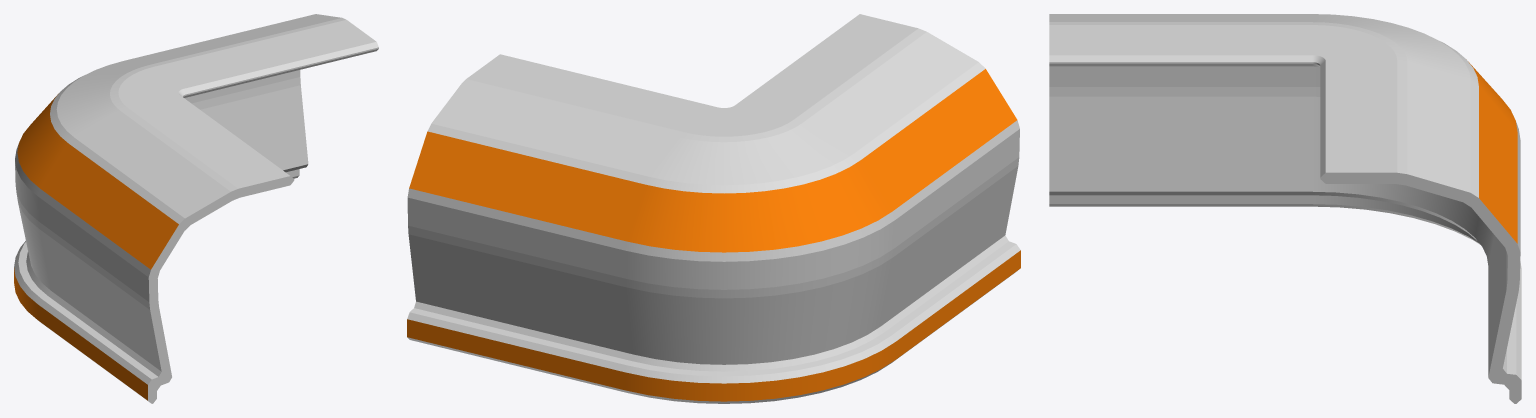
The model's file is buildsquaredcurve.obj.
3 views of the same model, side by side, from view 1: azimuth 30°, elevation 25°; view 2: azimuth 150°, elevation 25°; view 3: azimuth 270°, elevation 25° (orthographic). The views are drawn at different scales.
Visible parts, largest first — view 1: object1; view 2: object1; view 3: object1.
Boxes of the visible parts, left/top/right/bottom form: object1: left=14, top=14, right=378, bottom=403; object1: left=407, top=14, right=1020, bottom=403; object1: left=1049, top=14, right=1521, bottom=403.
Size of the model in its own units: 36.15 by 19.46 by 36.02.
